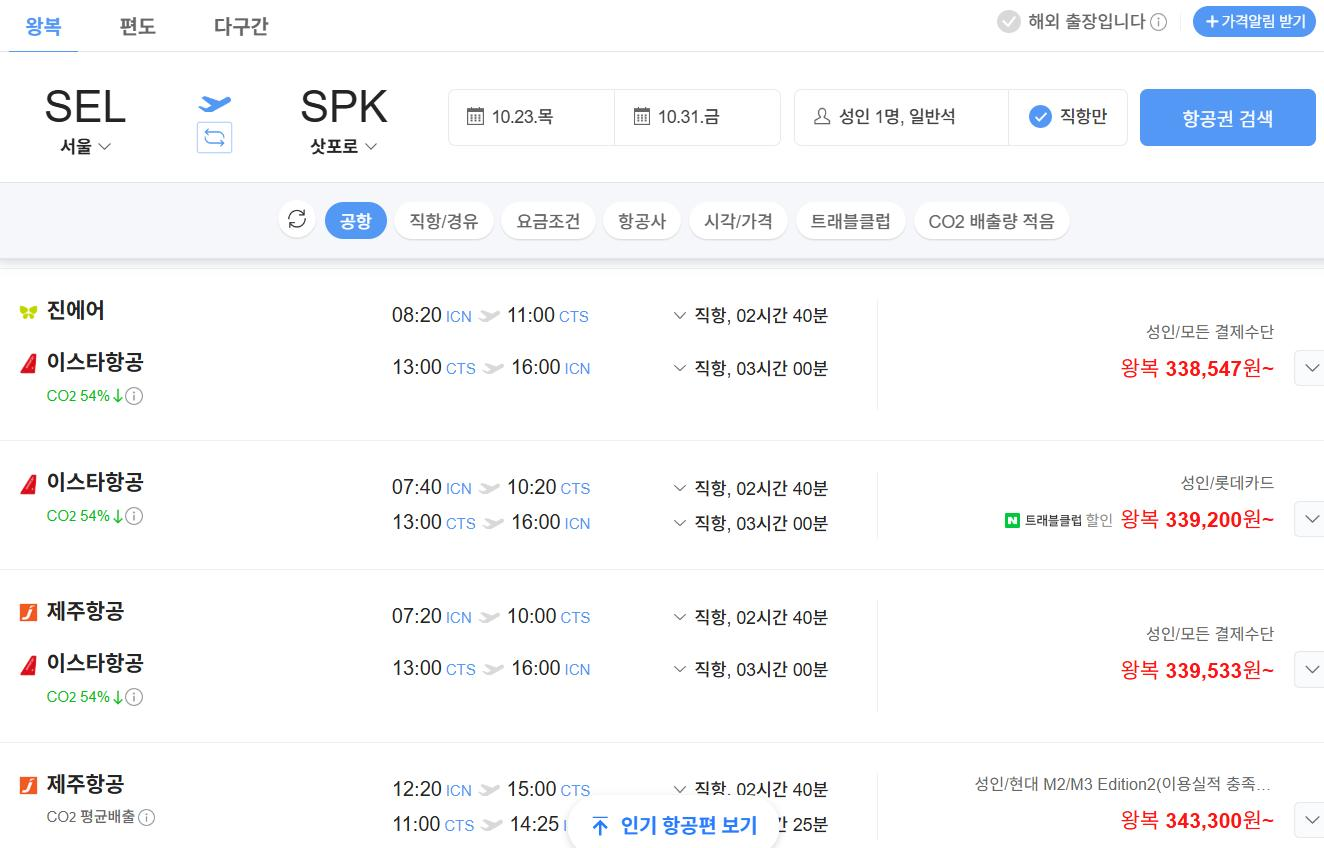button: (798, 84, 1010, 149), (568, 799, 783, 848), (619, 84, 783, 147), (449, 88, 614, 149), (1139, 88, 1313, 144), (913, 200, 1077, 249), (795, 199, 910, 251), (1191, 0, 1324, 43), (688, 193, 789, 249), (394, 195, 494, 243), (604, 194, 686, 248), (504, 196, 595, 243), (206, 4, 283, 50), (5, 10, 80, 57), (324, 194, 387, 247), (108, 5, 170, 48), (274, 189, 318, 248)
checkbox: (664, 346, 836, 388), (1018, 86, 1129, 148), (980, 8, 1177, 42), (669, 595, 836, 635), (670, 655, 842, 691), (664, 469, 833, 505), (664, 300, 838, 333), (663, 509, 835, 541), (304, 124, 392, 161), (48, 129, 120, 165), (1295, 800, 1324, 841), (1299, 650, 1324, 697), (1294, 500, 1324, 539), (1295, 348, 1324, 386)
